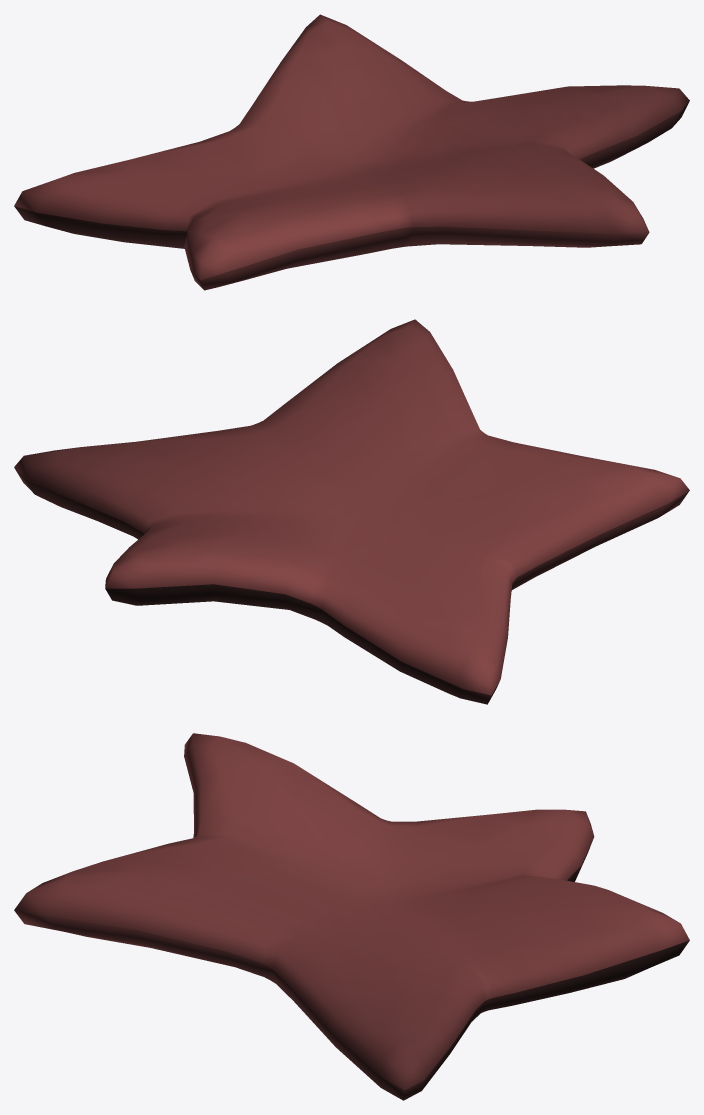
The model's file is star.glb.
3 views of the same model, one above another, from view 1: azimuth 30°, elevation 25°; view 2: azimuth 150°, elevation 25°; view 3: azimuth 270°, elevation 25° (orthographic). The views are drawn at different scales.
Visible parts, largest first — view 1: cc_star4; view 2: cc_star4; view 3: cc_star4.
Part boxes in pixels (left/top/right/bottom): cc_star4: left=14, top=14, right=689, bottom=290; cc_star4: left=14, top=319, right=689, bottom=704; cc_star4: left=14, top=733, right=689, bottom=1100.
Bounding box in the file's own units: 0.0833 × 0.018 × 0.0792.
1 material, 1 textured.
